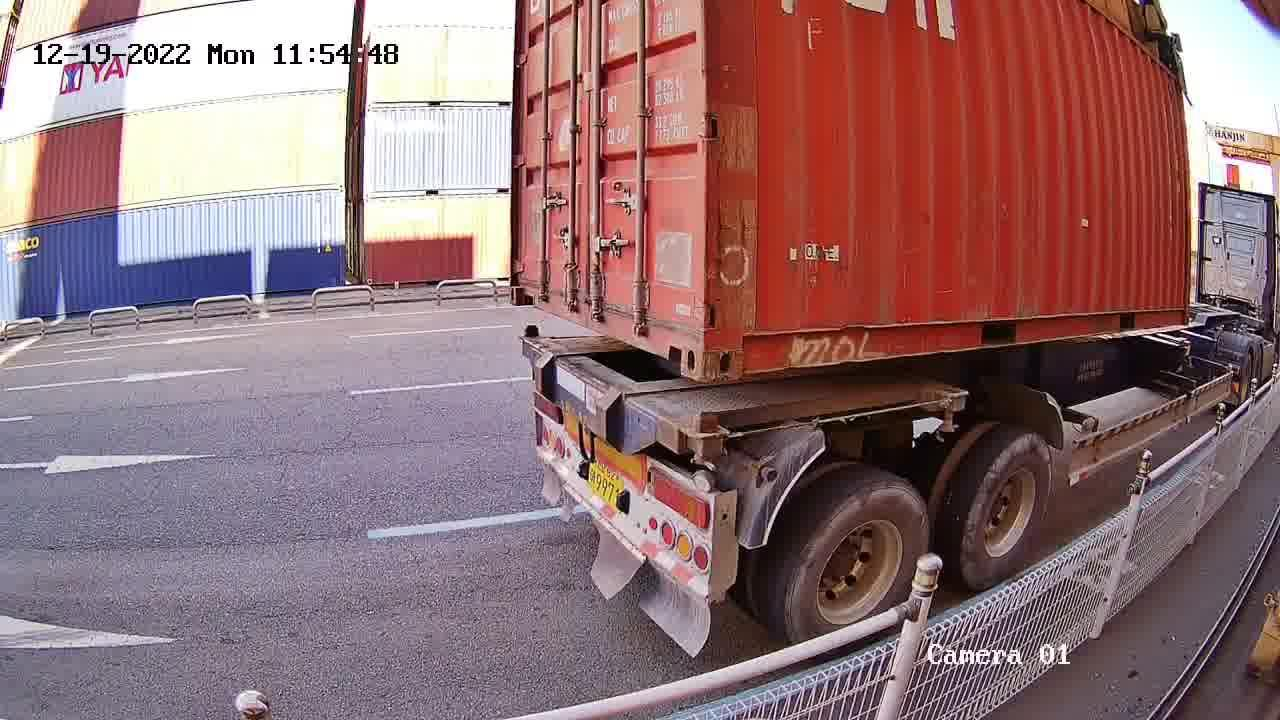Chassis: (519, 334, 729, 463)
Cone: (688, 413, 722, 461), (521, 323, 542, 349)
Hole_L: (702, 307, 775, 382), (509, 261, 540, 312)
Hole_R: (656, 299, 701, 382)
Tire: (788, 482, 925, 634), (963, 435, 1052, 586)
